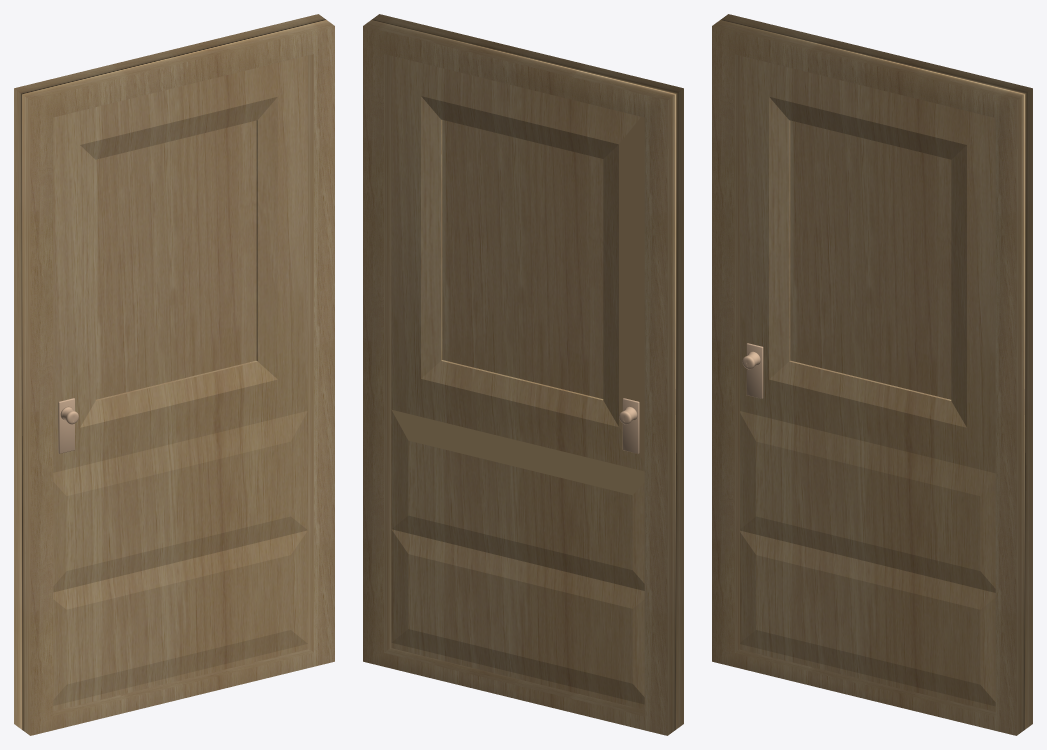
The model's file is door.gltf.
3 views of the same model, side by side, from view 1: azimuth 30°, elevation 25°; view 2: azimuth 150°, elevation 25°; view 3: azimuth 330°, elevation 25° (orthographic).
Visible parts, largest first — view 1: Box001, aldoor, doorhendle; view 2: Box001, aldoor, doorhendle; view 3: Box001, aldoor, doorhendle.
Part boxes in pixels (bbox=[...]): Box001: bbox=[53, 55, 307, 711]; aldoor: bbox=[14, 14, 334, 735]; doorhendle: bbox=[58, 398, 78, 453]; Box001: bbox=[391, 56, 644, 709]; aldoor: bbox=[363, 14, 683, 735]; doorhendle: bbox=[619, 398, 639, 453]; Box001: bbox=[740, 55, 995, 711]; aldoor: bbox=[712, 14, 1032, 735]; doorhendle: bbox=[742, 343, 763, 398].
Bounding box in the file's own units: 10.44 × 20.83 × 1.44.
3 materials, 2 textured.
